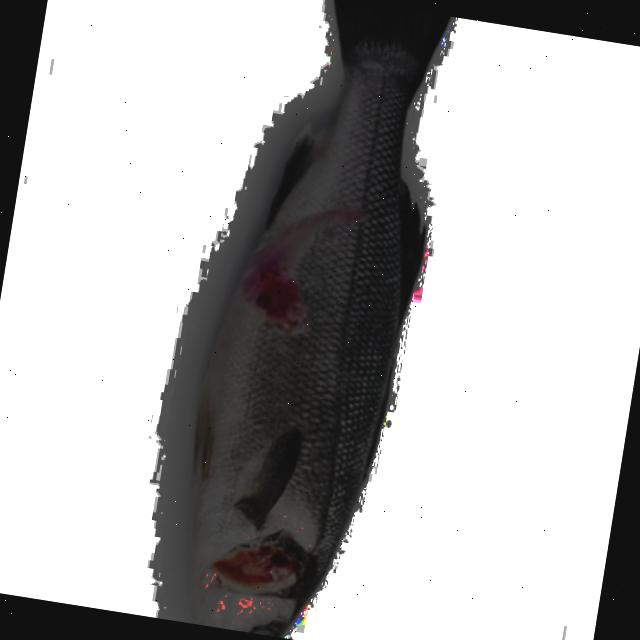Edwardsiella Ictaluri -Bacterial Red Disease-: (189, 0, 449, 637), (189, 0, 449, 637), (189, 0, 449, 637), (189, 0, 449, 637), (189, 0, 449, 637), (189, 0, 449, 637), (189, 0, 449, 637), (189, 0, 449, 637), (189, 0, 449, 637), (189, 0, 449, 637), (189, 0, 449, 637), (190, 0, 449, 637)
